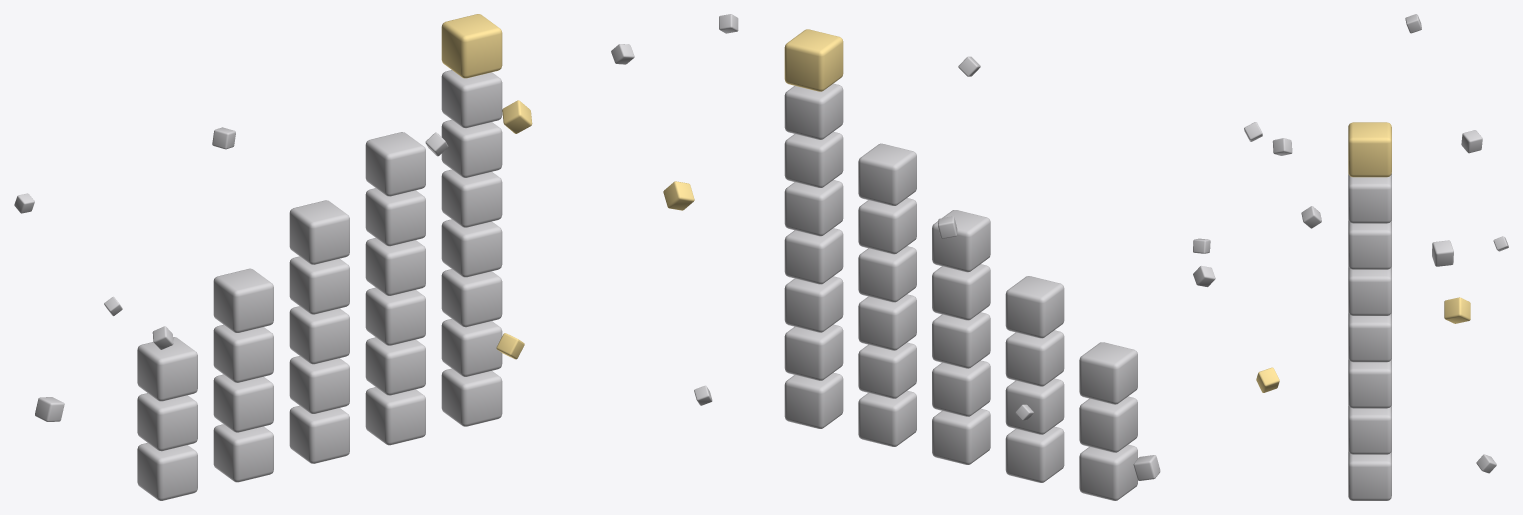
The model's file is hsk_gauge.glb.
The picture shows the model from 3 angles, left to right: view 1: azimuth 30°, elevation 25°; view 2: azimuth 150°, elevation 25°; view 3: azimuth 270°, elevation 25°; orthographic projection. The views are drawn at different scales.
Visible parts, largest first — view 1: HSKGauge; view 2: HSKGauge; view 3: HSKGauge.
Part boxes in pixels (<box>): HSKGauge: <box>14,14,634,500</box>; HSKGauge: <box>663,14,1215,500</box>; HSKGauge: <box>1244,14,1508,500</box>.
Size of the model in its own units: 4.12 by 2.75 by 1.82.
